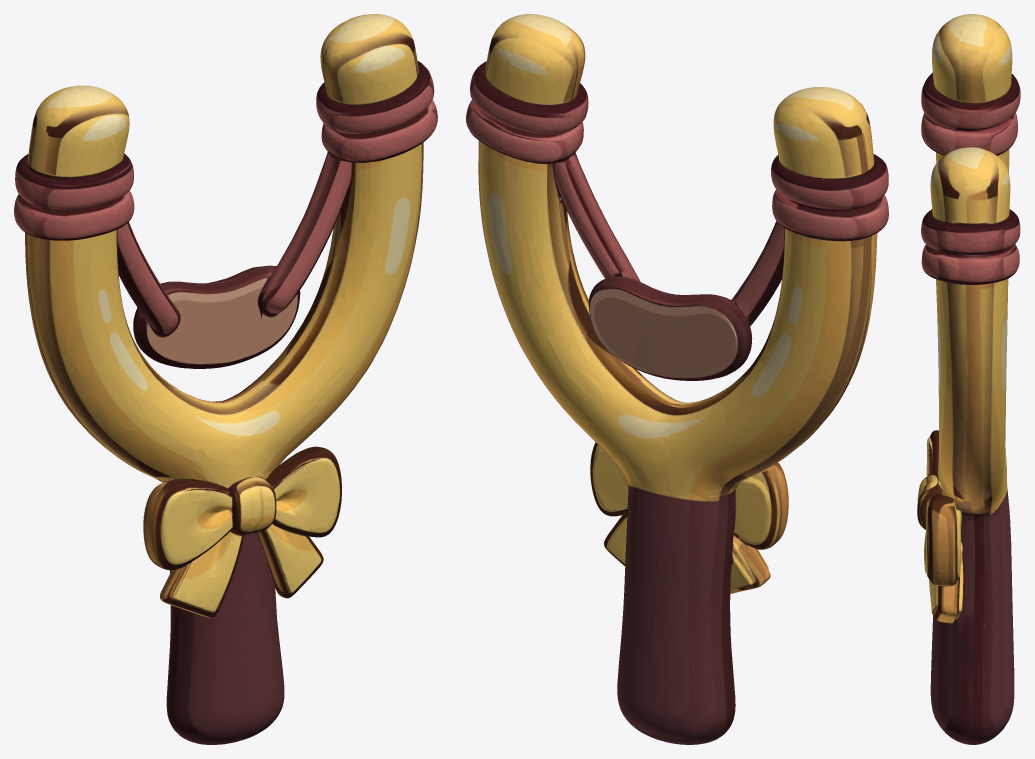
File: butter-weapon.fbx
3 views of the same model, side by side, from view 1: azimuth 30°, elevation 25°; view 2: azimuth 150°, elevation 25°; view 3: azimuth 270°, elevation 25° (orthographic). The views are drawn at different scales.
Visible parts, largest first — view 1: output_unwrapped; view 2: output_unwrapped; view 3: output_unwrapped.
Part boxes in pixels (x1=…): output_unwrapped: x1=14, y1=14, x2=437, y2=744; output_unwrapped: x1=466, y1=14, x2=888, y2=744; output_unwrapped: x1=917, y1=14, x2=1020, y2=744.
Size of the model in its own units: 119 by 190 by 27.54.
Materials: 1 (1 with a texture image).
